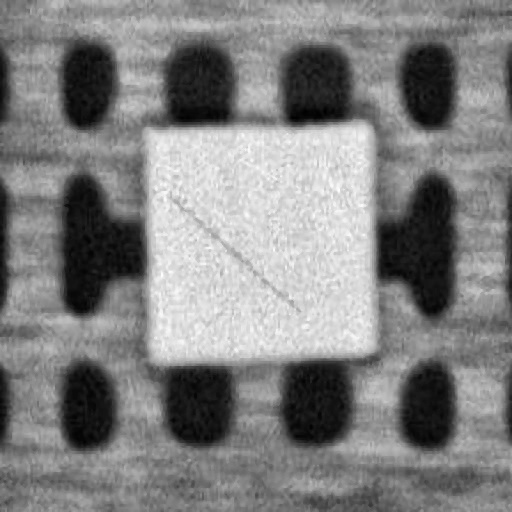DIE_CRACK: (252, 130, 446, 206)
